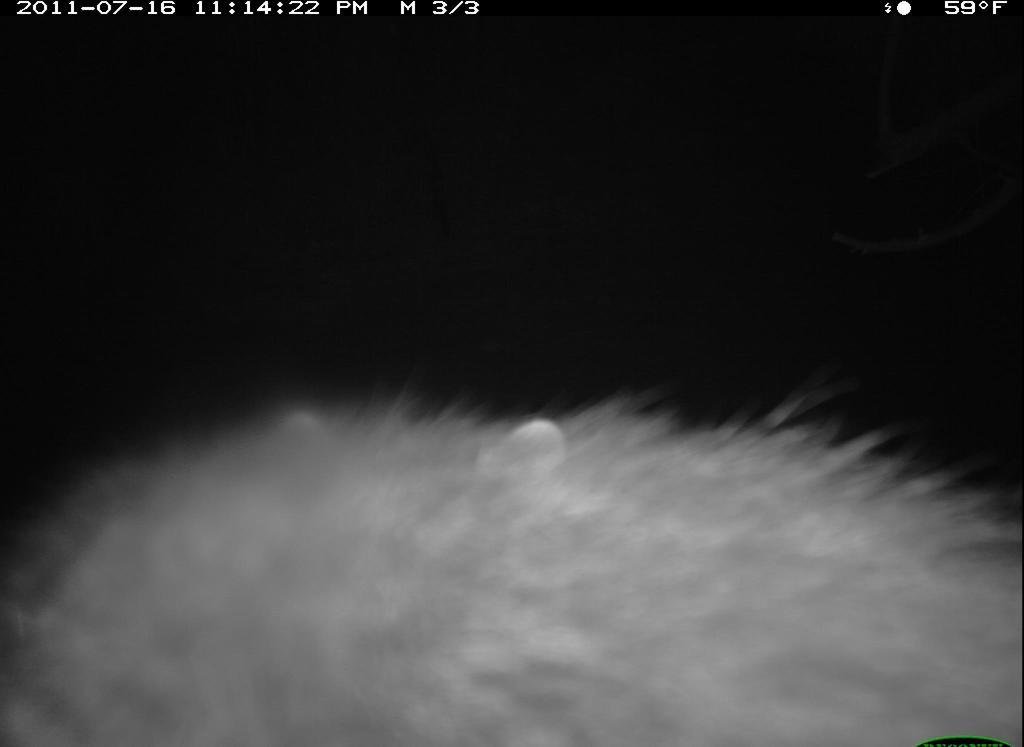raccoon: (3, 355, 1018, 744)
